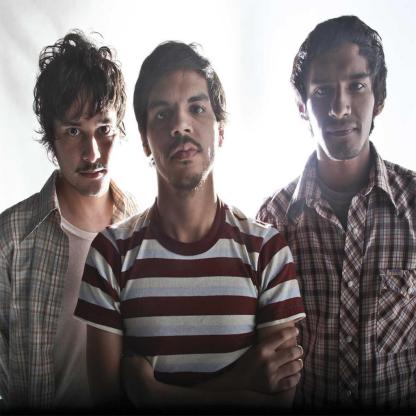face: (150, 74, 216, 182), (311, 48, 371, 156), (58, 86, 119, 191)
